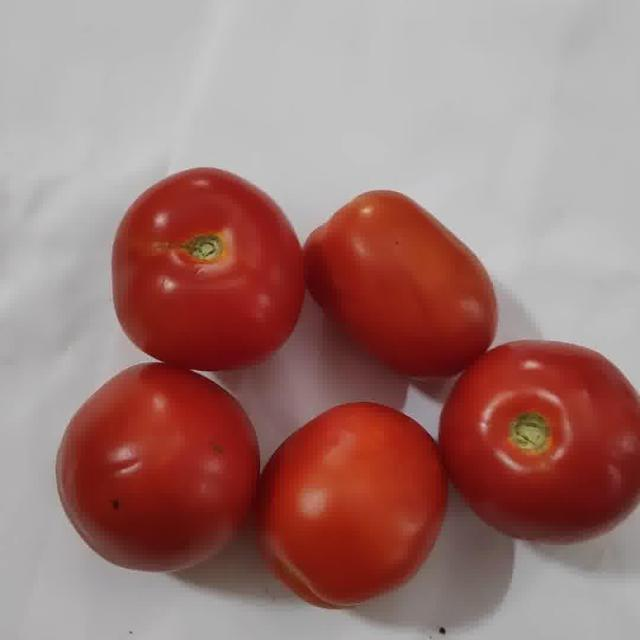Tomato: (56, 363, 259, 571), (440, 341, 639, 540), (113, 168, 305, 370), (258, 404, 445, 607), (303, 190, 497, 380)
